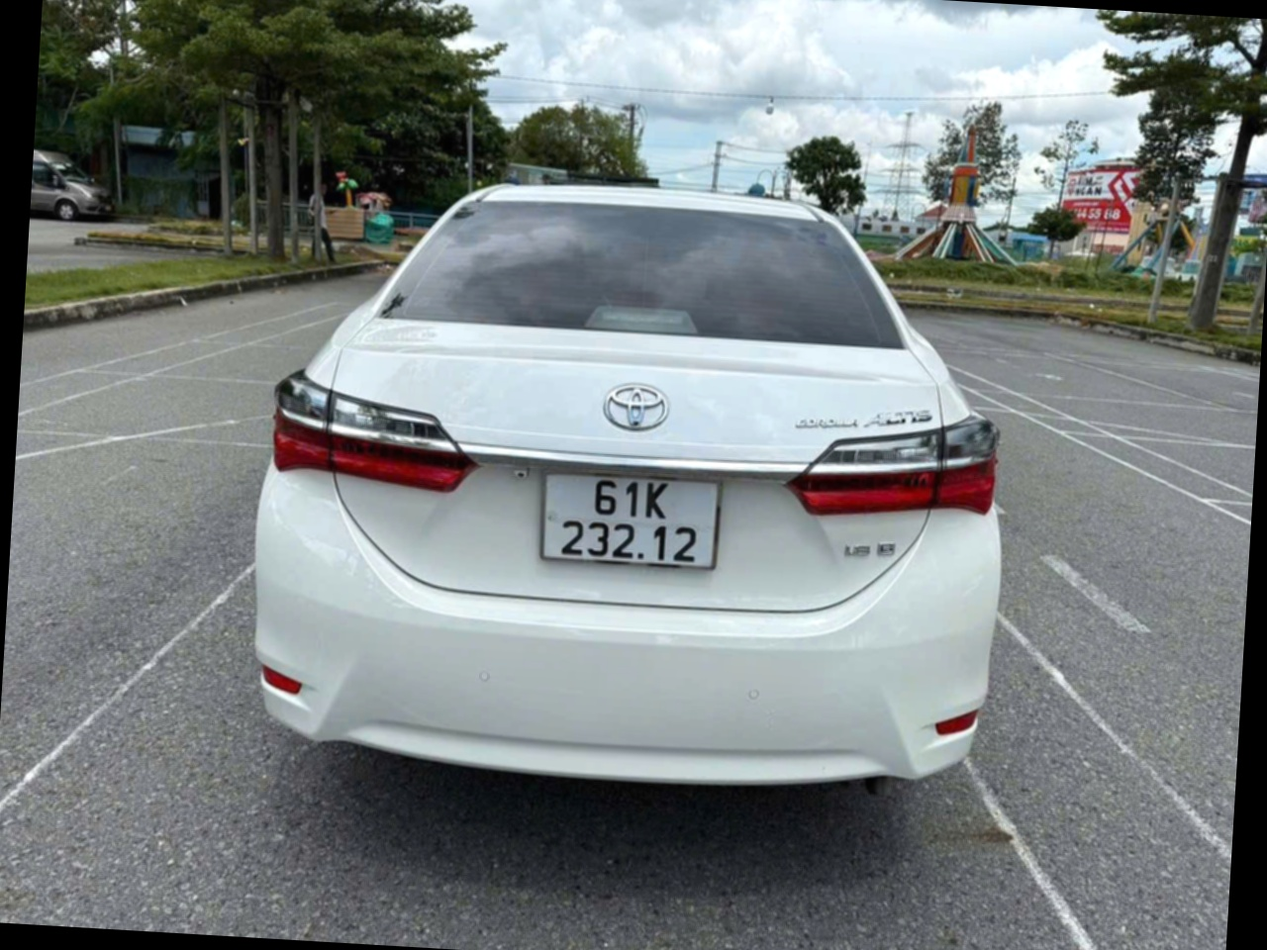Bien-so: (538, 478, 730, 572)
